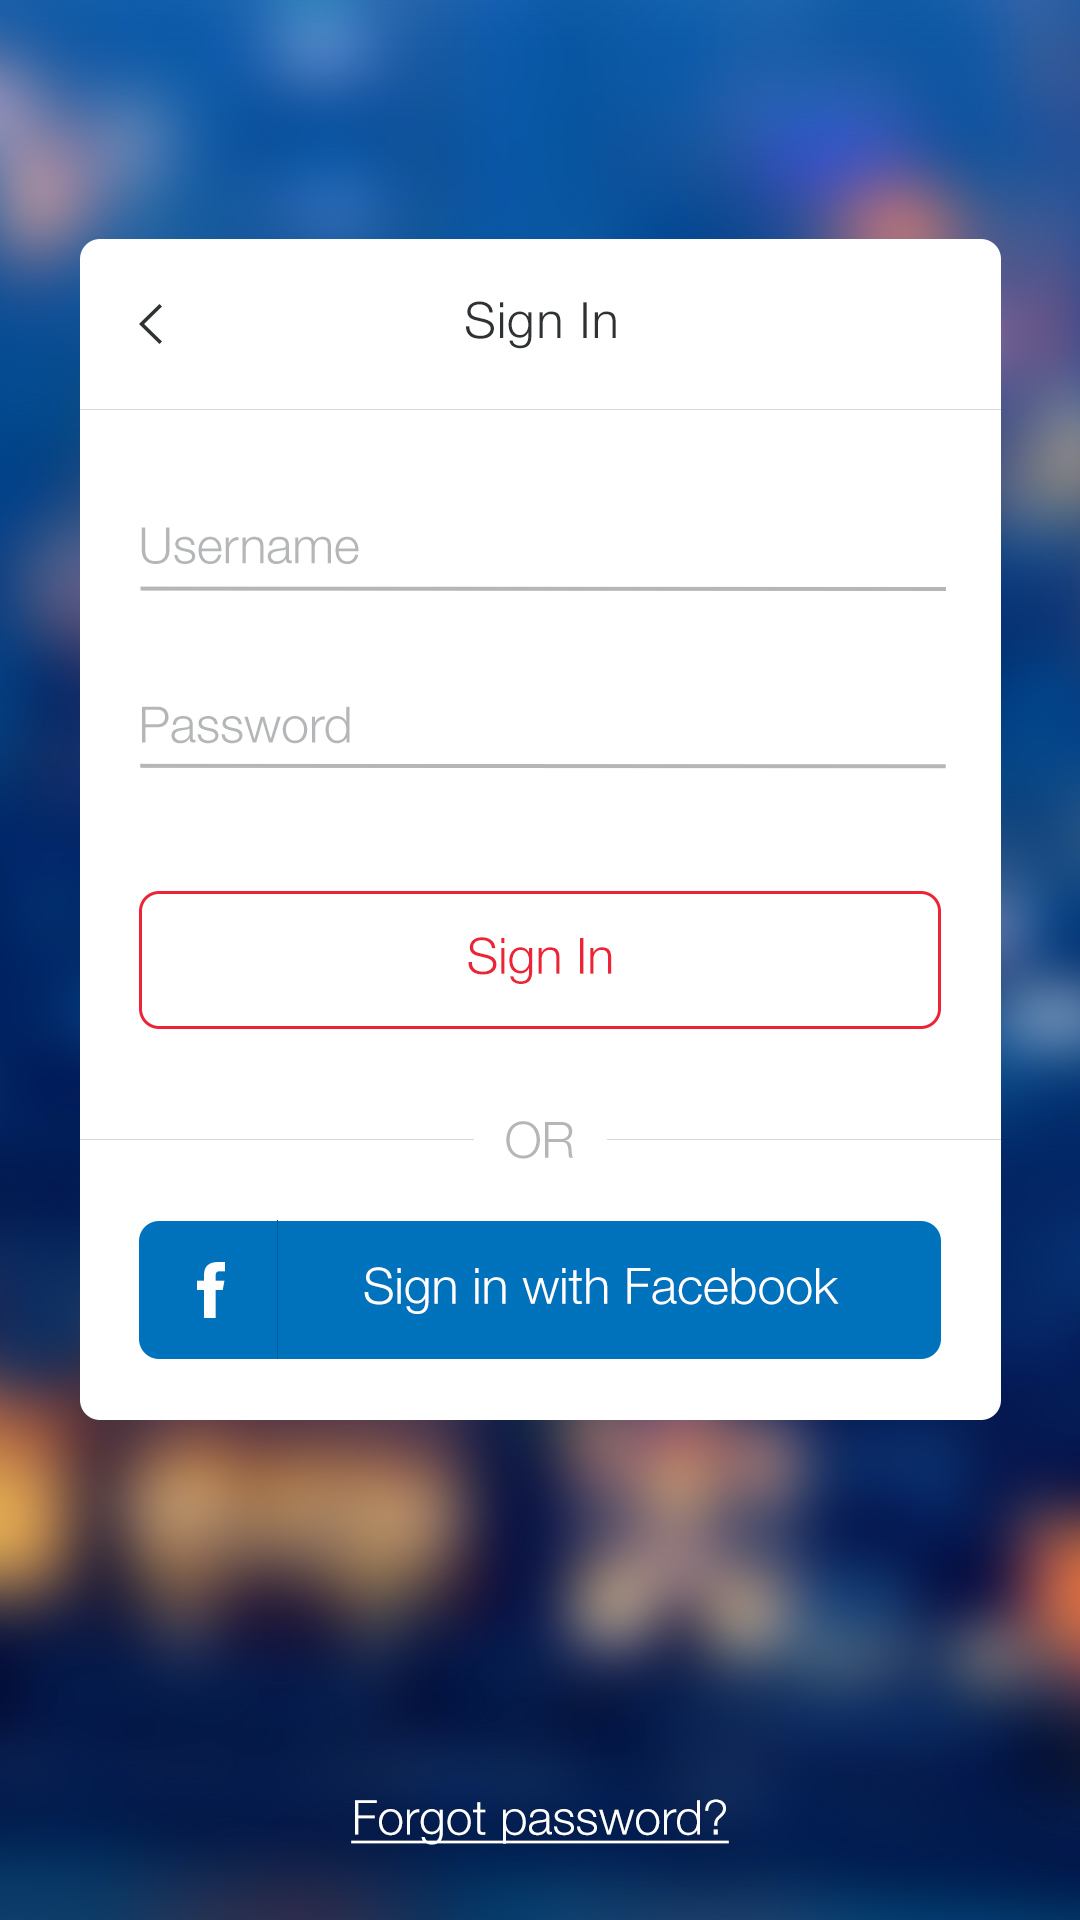BackgroundImage: (1, 1, 1080, 1920)
EditText: (140, 527, 942, 592), (140, 705, 942, 769)
Icon: (138, 305, 164, 345)
Modal: (80, 239, 1002, 1422)
Text: (351, 1797, 731, 1846), (142, 527, 360, 566), (142, 705, 351, 744), (465, 301, 617, 349), (506, 1120, 574, 1160)
TextButton: (138, 891, 942, 1030), (138, 1221, 942, 1360)
